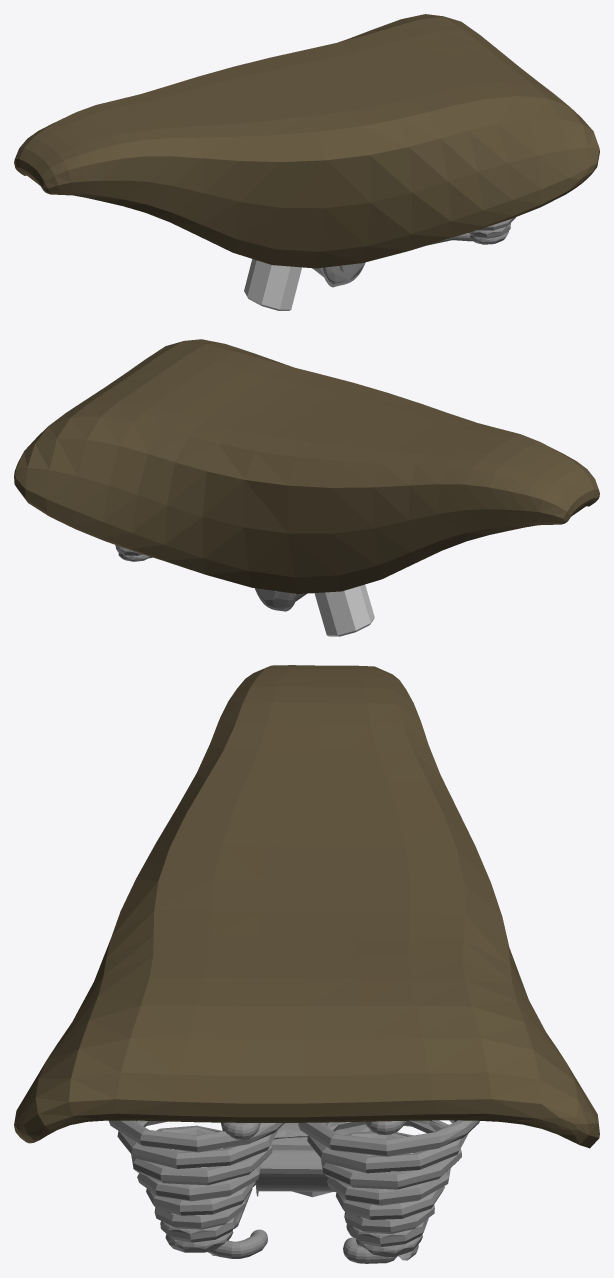
File: zadel.dae
3 renders of one model, top to bottom at view 1: azimuth 30°, elevation 25°; view 2: azimuth 150°, elevation 25°; view 3: azimuth 270°, elevation 25°, orthographic. The views are drawn at different scales.
Parts seen in each view (by area): view 1: BICYCLE_HACIENTO_001, BICYCLE_HyperNURBS_3_Cubo_18_001, BICYCLE_resorte1_001, BICYCLE_HyperNURBS_4_Cubo_17_001; view 2: BICYCLE_HACIENTO_001, BICYCLE_HyperNURBS_3_Cubo_18_001; view 3: BICYCLE_HACIENTO_001, BICYCLE_resorte2_001, BICYCLE_resorte1_001, BICYCLE_latilla_001, BICYCLE_resorte3_001, BICYCLE_resorte4_001.
Boxes of the visible parts, x1,y1,x2,y2 form: BICYCLE_HACIENTO_001: (14, 14, 599, 268); BICYCLE_HyperNURBS_3_Cubo_18_001: (244, 259, 301, 310); BICYCLE_resorte1_001: (468, 217, 515, 244); BICYCLE_HyperNURBS_4_Cubo_17_001: (323, 262, 365, 284); BICYCLE_HACIENTO_001: (14, 339, 599, 593); BICYCLE_HyperNURBS_3_Cubo_18_001: (314, 584, 374, 636); BICYCLE_HACIENTO_001: (14, 665, 599, 1148); BICYCLE_resorte2_001: (298, 1120, 479, 1260); BICYCLE_resorte1_001: (109, 1120, 284, 1256); BICYCLE_latilla_001: (255, 1149, 334, 1196); BICYCLE_resorte3_001: (207, 1154, 397, 1263); BICYCLE_resorte4_001: (221, 1121, 406, 1139).
Bounding box in the file's own units: 0.6461 × 0.4068 × 0.279.
